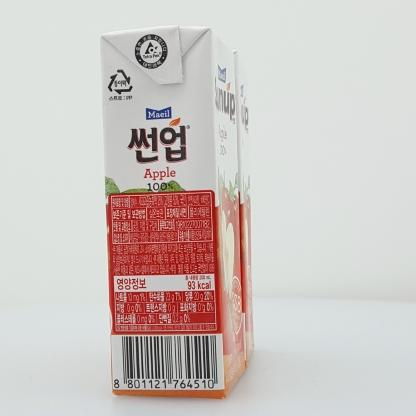-----------200ML: (100, 25, 246, 400)
